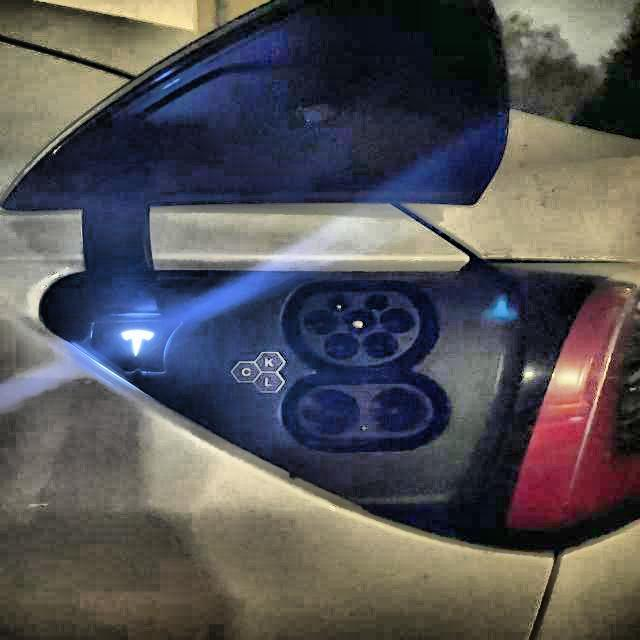inlet: (299, 291, 419, 366)
inlet-above-left: (327, 295, 352, 312)
inlet-above-right: (365, 294, 389, 310)
inlet-below-left: (325, 334, 359, 359)
inlet-below-right: (363, 332, 396, 358)
inlet-center: (340, 309, 375, 334)
inlet-center-left: (303, 309, 338, 335)
inlet-center-right: (380, 308, 414, 333)
